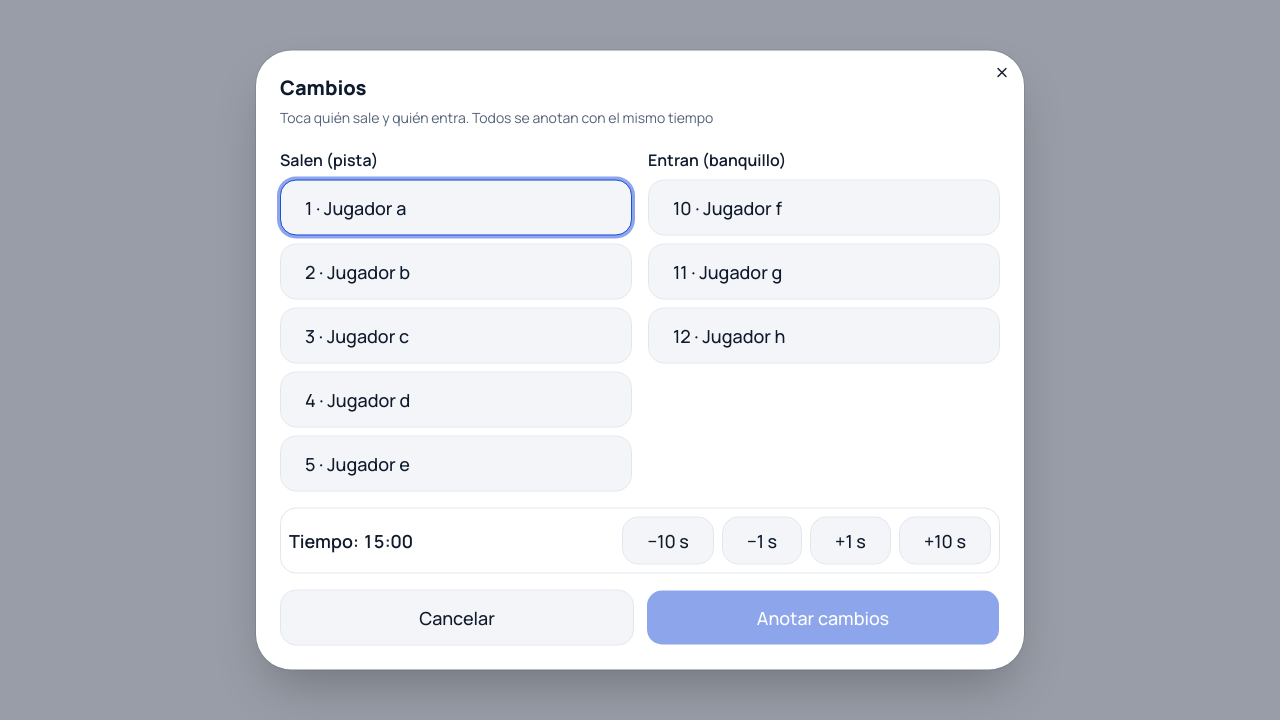
Test case: MultiSubstitutionDialog › si el dominio no admite los cambios avisa y no anota
Click the button "1 · Jugador a": (365, 208) [280,180,632,236]
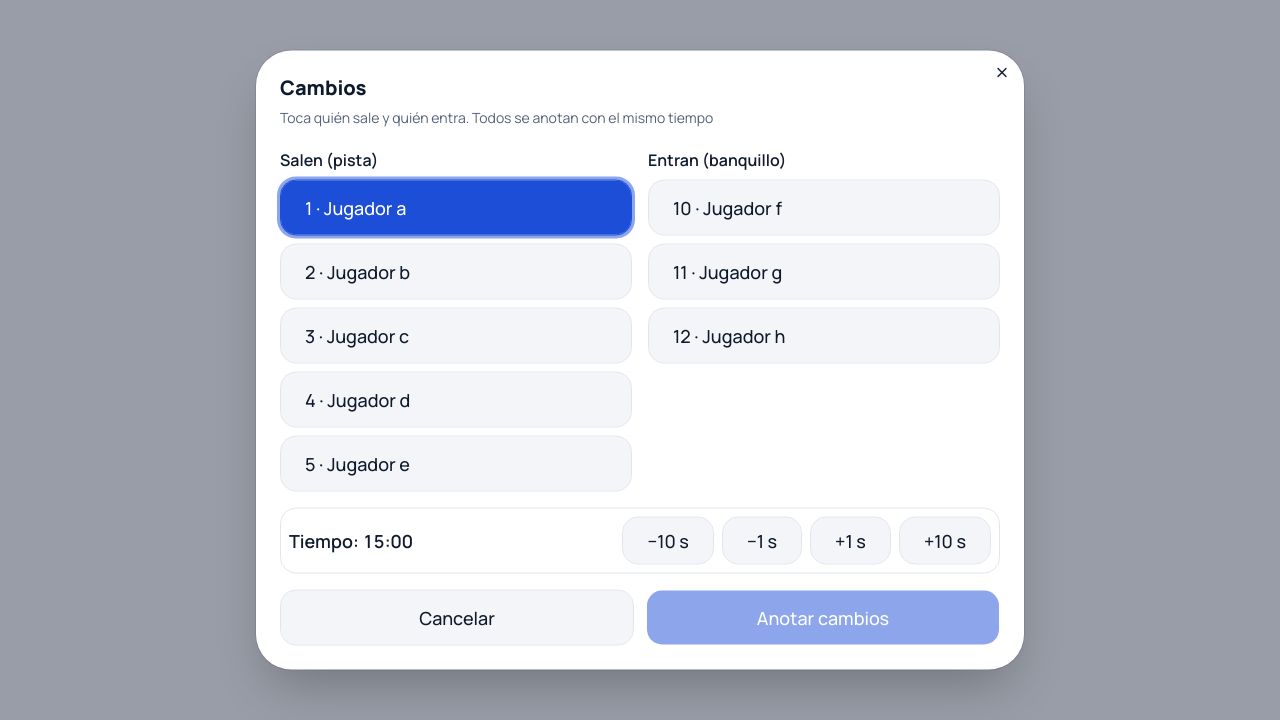
Click the button "10 · Jugador f": (743, 208) [648,180,1000,236]
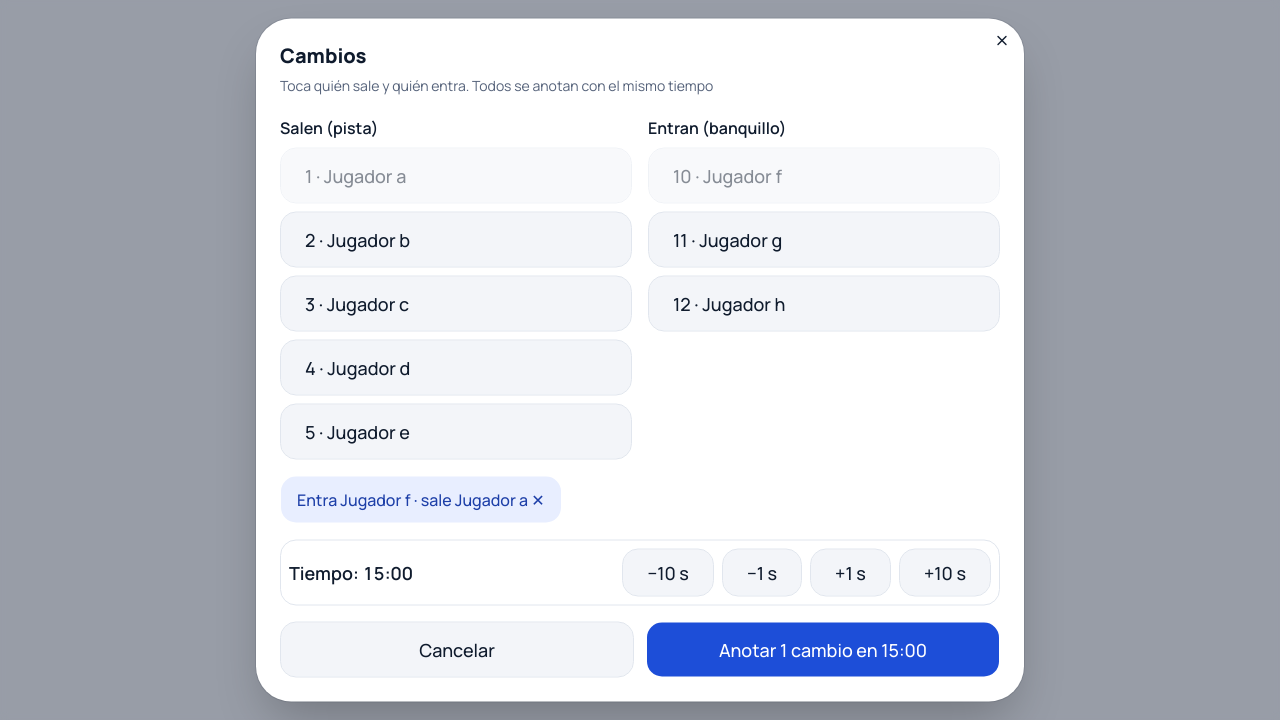
Click the button "Anotar 1 cambio en 15:00": (823, 650) [646,622,1000,678]
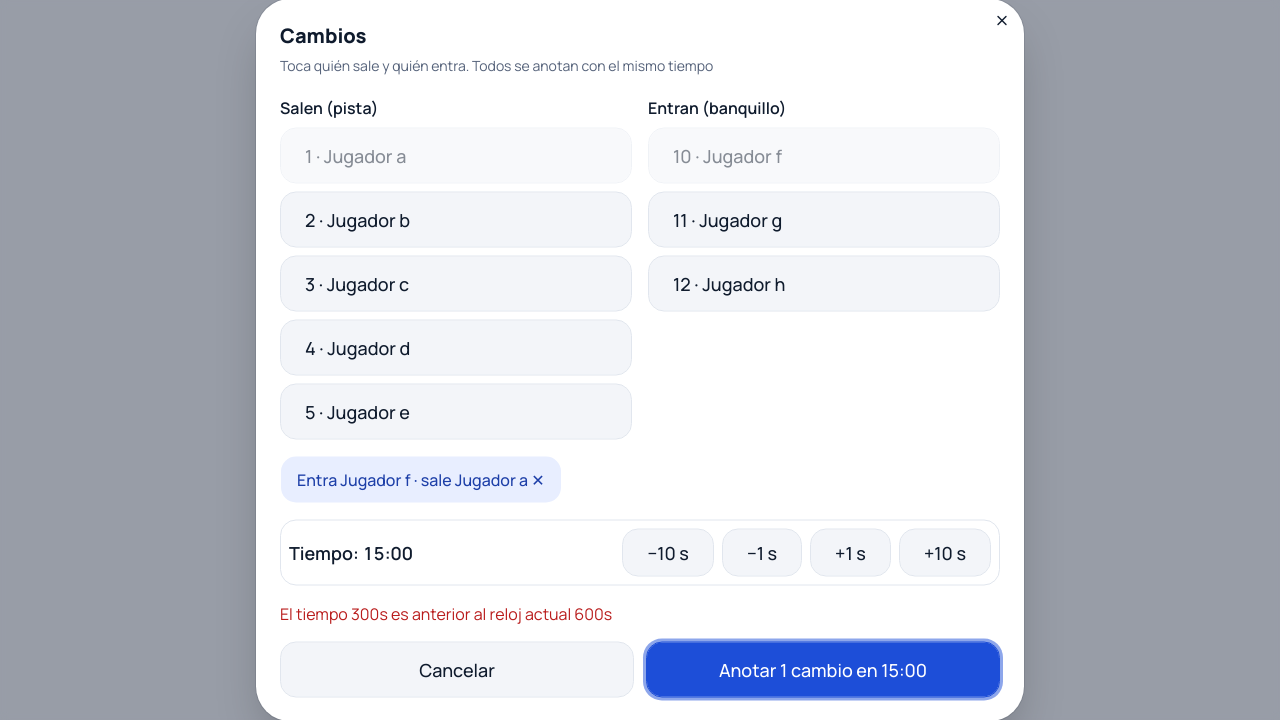
Now the message shows "anterior al reloj", box [280,602,612,624]
